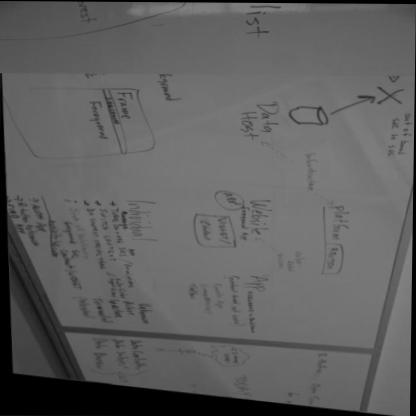Handwritten text: (126, 193, 170, 243), (81, 204, 111, 273), (236, 4, 291, 39), (66, 197, 94, 265), (325, 189, 359, 244), (151, 68, 186, 117), (82, 96, 110, 153), (107, 200, 132, 261), (247, 194, 280, 236), (97, 203, 120, 263), (57, 211, 82, 264), (296, 147, 326, 189), (115, 85, 139, 135), (224, 271, 244, 329), (259, 101, 290, 135), (28, 197, 52, 236), (236, 104, 257, 147), (70, 293, 96, 326), (131, 333, 153, 370), (199, 277, 216, 319), (114, 332, 132, 371), (93, 335, 111, 370), (240, 272, 272, 290), (139, 298, 156, 328), (94, 296, 111, 325), (215, 213, 233, 239), (212, 282, 227, 310), (110, 294, 124, 321), (222, 188, 242, 206), (325, 247, 339, 271), (123, 297, 137, 319), (185, 281, 201, 300), (198, 220, 212, 241)
